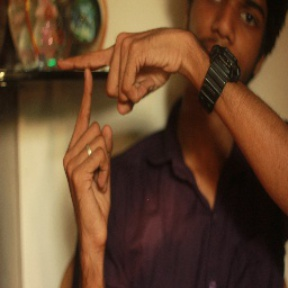T: (46, 36, 133, 160)
